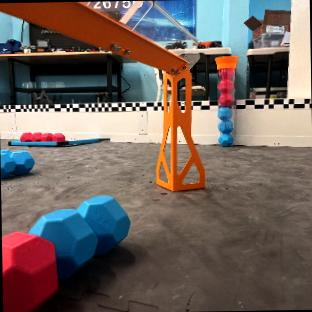V5_BLUE: (31, 195, 128, 278), (0, 149, 33, 178), (217, 108, 232, 145)
V5_RED: (1, 233, 56, 311), (215, 55, 236, 145), (217, 65, 233, 106), (21, 132, 64, 140)
